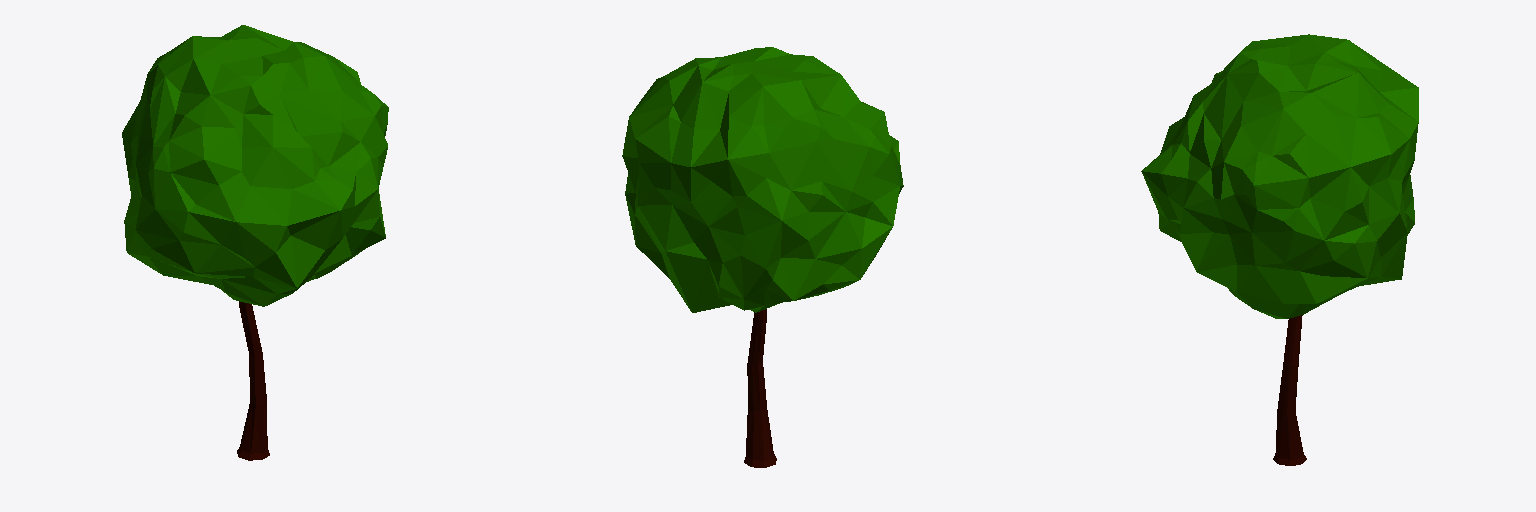
File: Tree_1.obj
The picture shows the model from 3 angles: view 1: azimuth 30°, elevation 25°; view 2: azimuth 150°, elevation 25°; view 3: azimuth 270°, elevation 25°; orthographic projection.
Parts seen in each view (by area): view 1: Tree.1; view 2: Tree.1; view 3: Tree.1.
Boxes of the visible parts, box(x1,y1,x2,y2) form: Tree.1: box(122, 25, 388, 460); Tree.1: box(622, 47, 903, 467); Tree.1: box(1141, 34, 1418, 465).
Bounding box in the file's own units: 3.04 × 4.77 × 2.97.